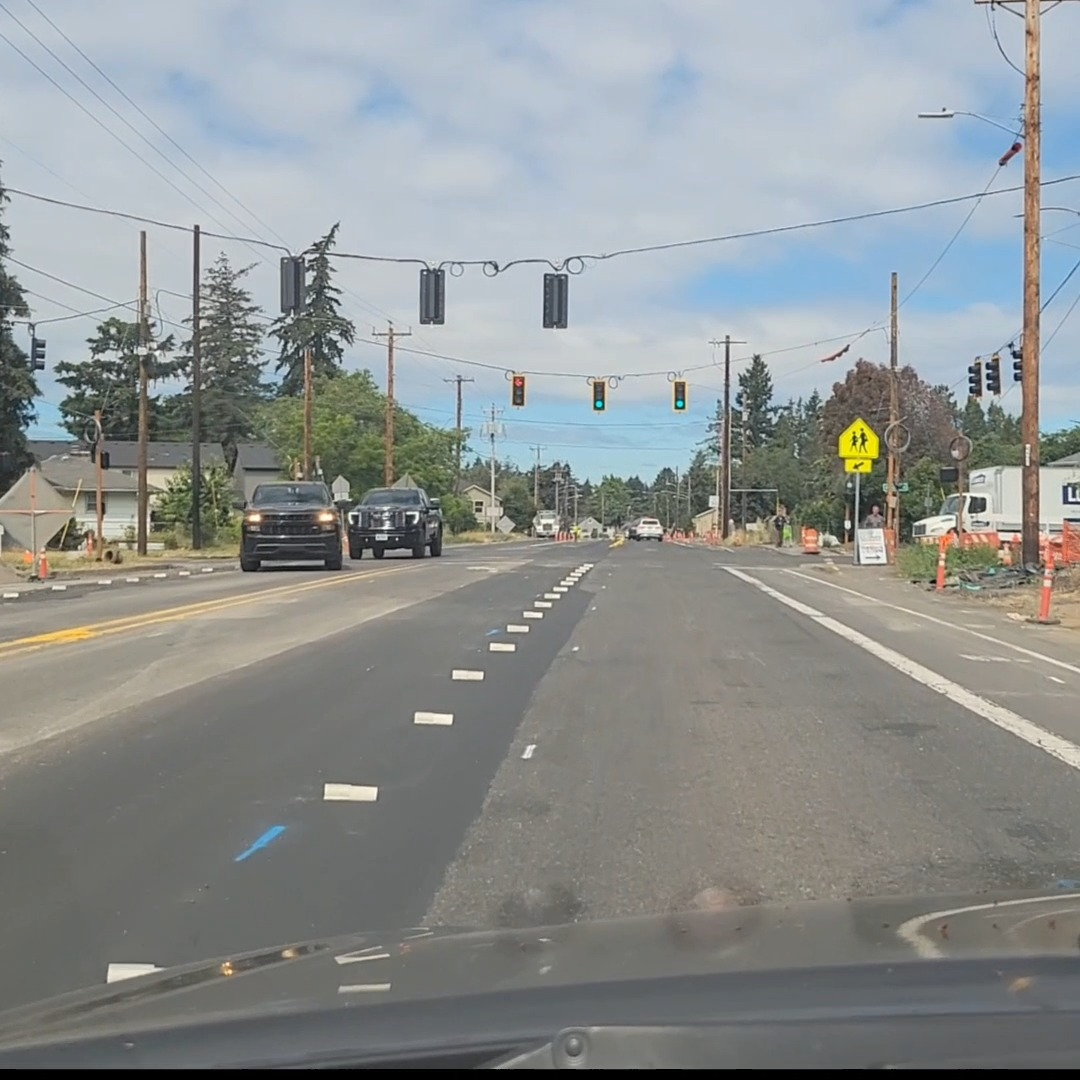car: (235, 482, 344, 571), (344, 486, 445, 559), (629, 517, 664, 541)
crosswalk-sign: (837, 416, 879, 472)
delineator: (1036, 560, 1054, 621), (934, 535, 949, 590), (37, 549, 50, 580), (1000, 536, 1013, 566), (83, 528, 94, 556), (944, 525, 961, 542)
